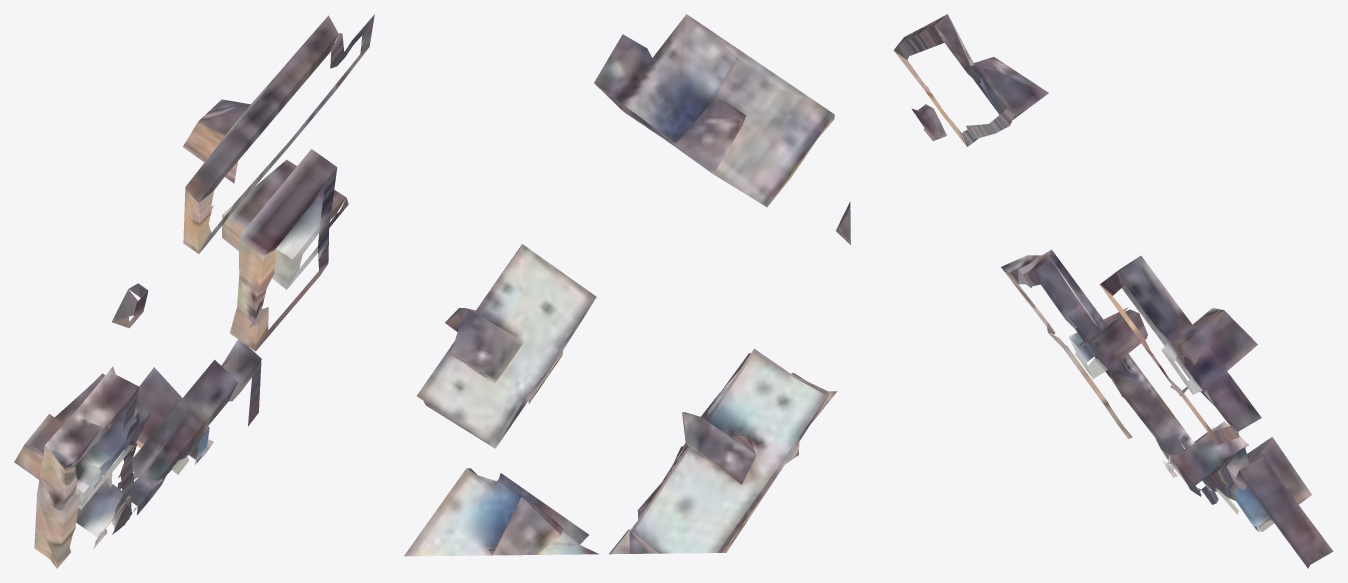
The picture shows the model from 3 angles, left to right: view 1: azimuth 30°, elevation 25°; view 2: azimuth 150°, elevation 25°; view 3: azimuth 270°, elevation 25°; orthographic projection. The views are drawn at different scales.
Bounding box in the file's own units: 45.31 × 64.19 × 50.81.
1 material, 1 textured.
